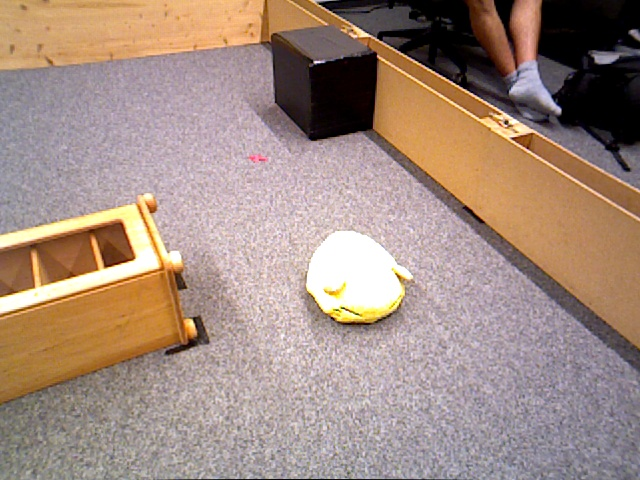grasp: (304, 229, 405, 324)
push: (272, 31, 377, 142)
